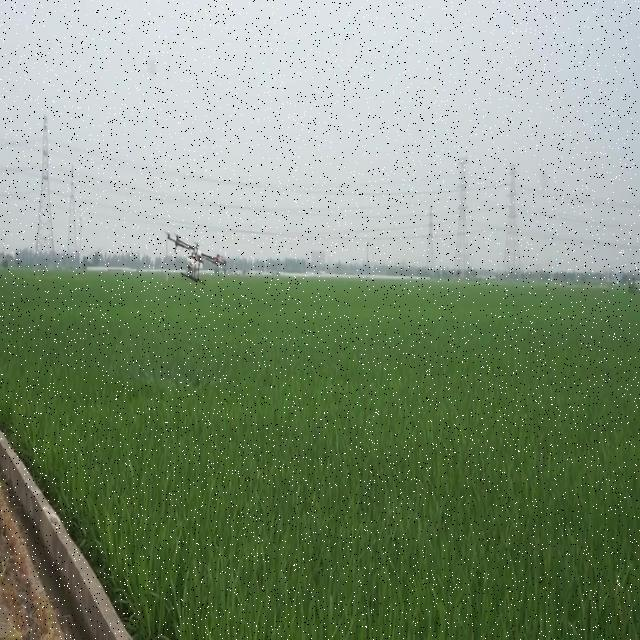UAV: (163, 227, 226, 288)
